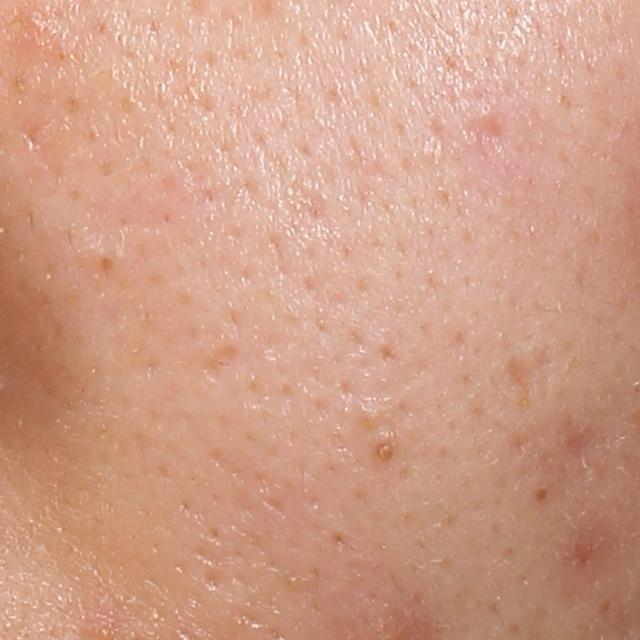atrophic_scar: (560, 414, 607, 467), (200, 340, 242, 385), (462, 111, 514, 144), (503, 355, 532, 390)
comedo: (370, 433, 400, 468), (527, 478, 555, 508)
